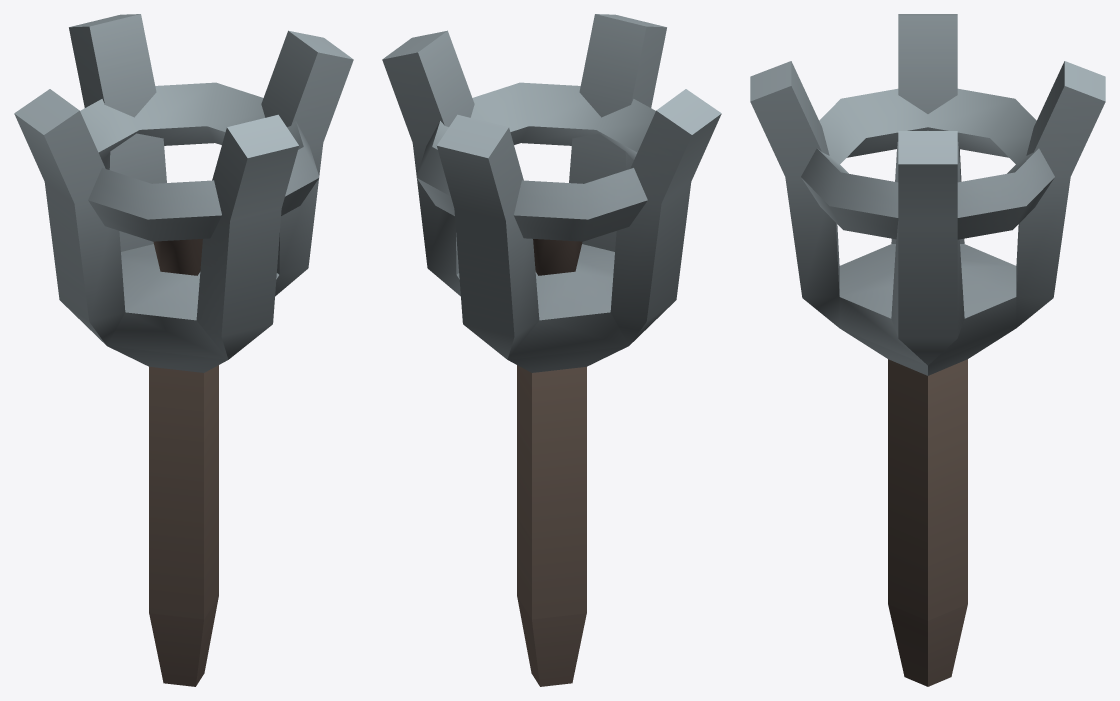
Rendered from torch.gltf.
The picture shows the model from 3 angles, left to right: view 1: azimuth 30°, elevation 25°; view 2: azimuth 150°, elevation 25°; view 3: azimuth 270°, elevation 25°; orthographic projection.
Parts seen in each view (by area): view 1: torch; view 2: torch; view 3: torch.
Boxes of the visible parts, x1=… form: torch: x1=14, y1=14, x2=353, y2=686; torch: x1=382, y1=14, x2=721, y2=686; torch: x1=750, y1=14, x2=1105, y2=686.
Size of the model in its own units: 0.5503 by 1.04 by 0.5503.
1 material, 1 textured.
